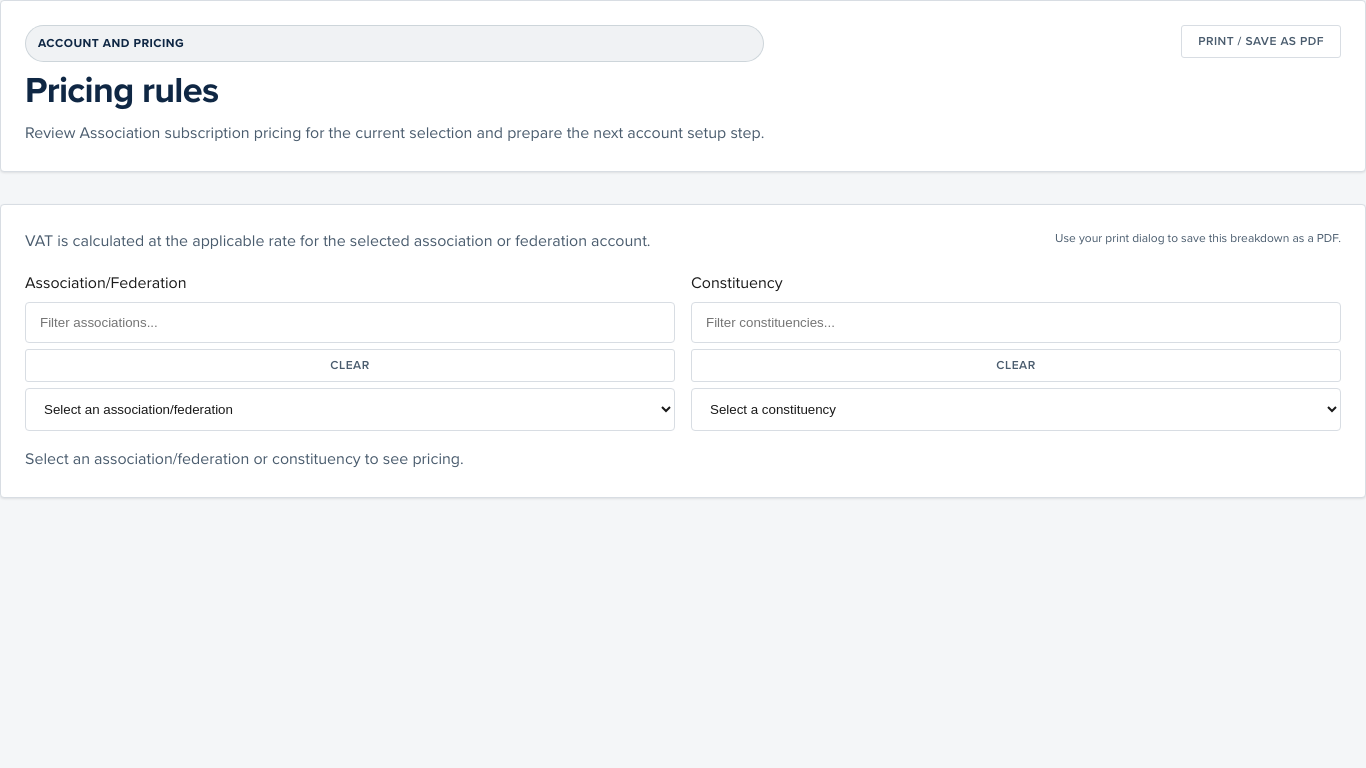
PricingRules › selecting an association shows details and totals
This screenshot has width=1366, height=768.
Select "Big Federation" in the dropdown labelled "Association/Federation" at (350, 410), box x1=25 y1=388 x2=675 y2=431
(page scrolled)
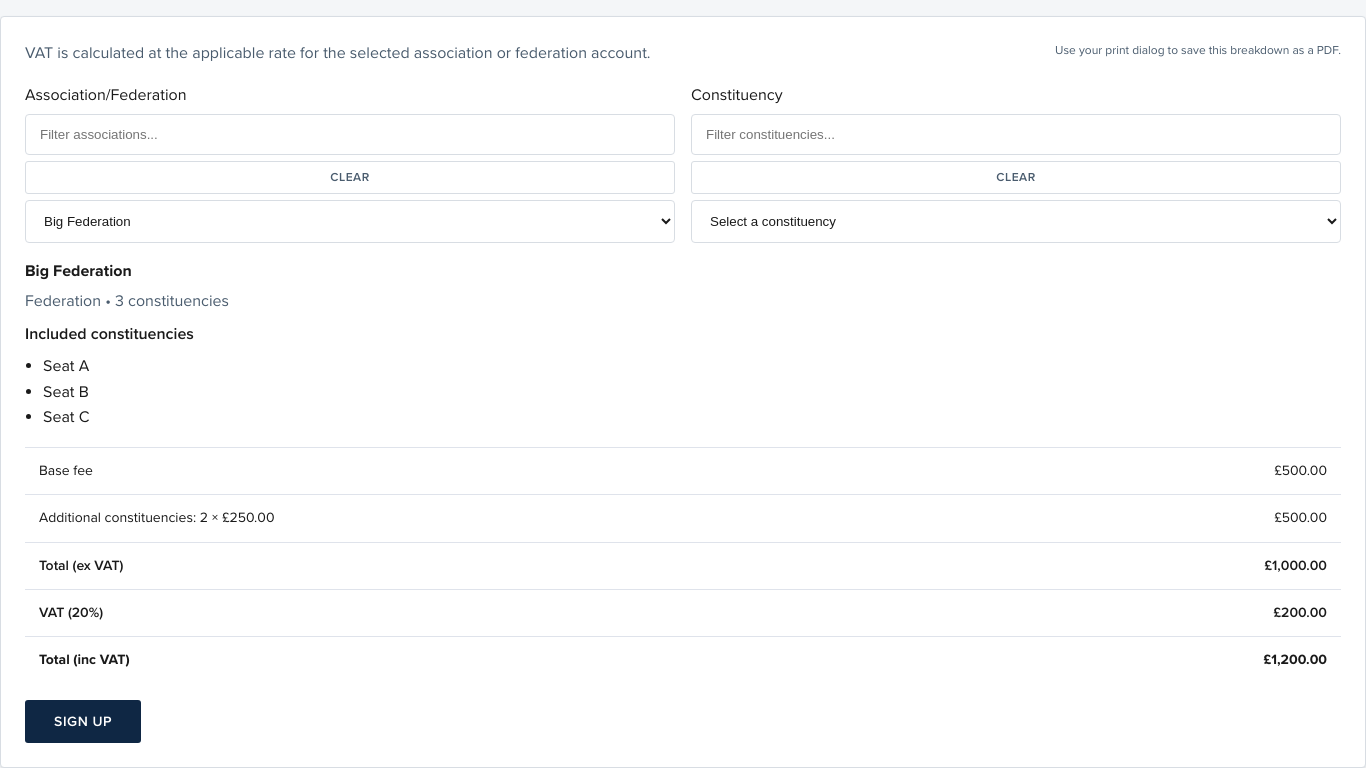
Check: the text "Federation • 3 constituencies" is shown, box x1=25 y1=291 x2=229 y2=311
Check: the number of list items is 3, box x1=43 y1=356 x2=89 y2=376; x1=43 y1=382 x2=89 y2=402; x1=43 y1=407 x2=90 y2=427
Check: the text "Total (ex VAT)" is shown, box x1=25 y1=542 x2=1002 y2=589
